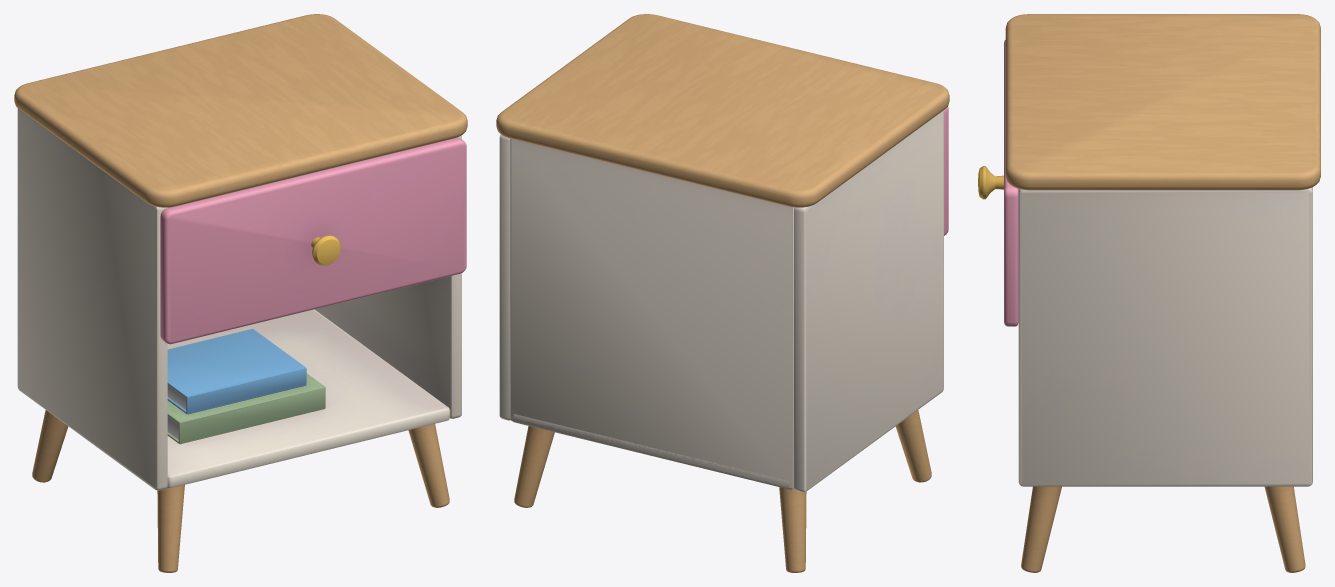
The model's file is nightstand.glb.
3 views of the same model, side by side, from view 1: azimuth 30°, elevation 25°; view 2: azimuth 150°, elevation 25°; view 3: azimuth 270°, elevation 25° (orthographic). The views are drawn at different scales.
Parts seen in each view (by area): view 1: nightstand_body, nightstand_drawer; view 2: nightstand_body, nightstand_drawer; view 3: nightstand_body, nightstand_drawer.
Part boxes in pixels (<box>): nightstand_body: <box>14,14,467,572</box>; nightstand_drawer: <box>160,137,466,344</box>; nightstand_body: <box>496,14,949,572</box>; nightstand_drawer: <box>944,107,948,235</box>; nightstand_body: <box>1005,14,1320,572</box>; nightstand_drawer: <box>978,40,1018,326</box>.
Size of the model in its own units: 0.48 by 0.559 by 0.4264.
Materials: 2 (2 with a texture image).
